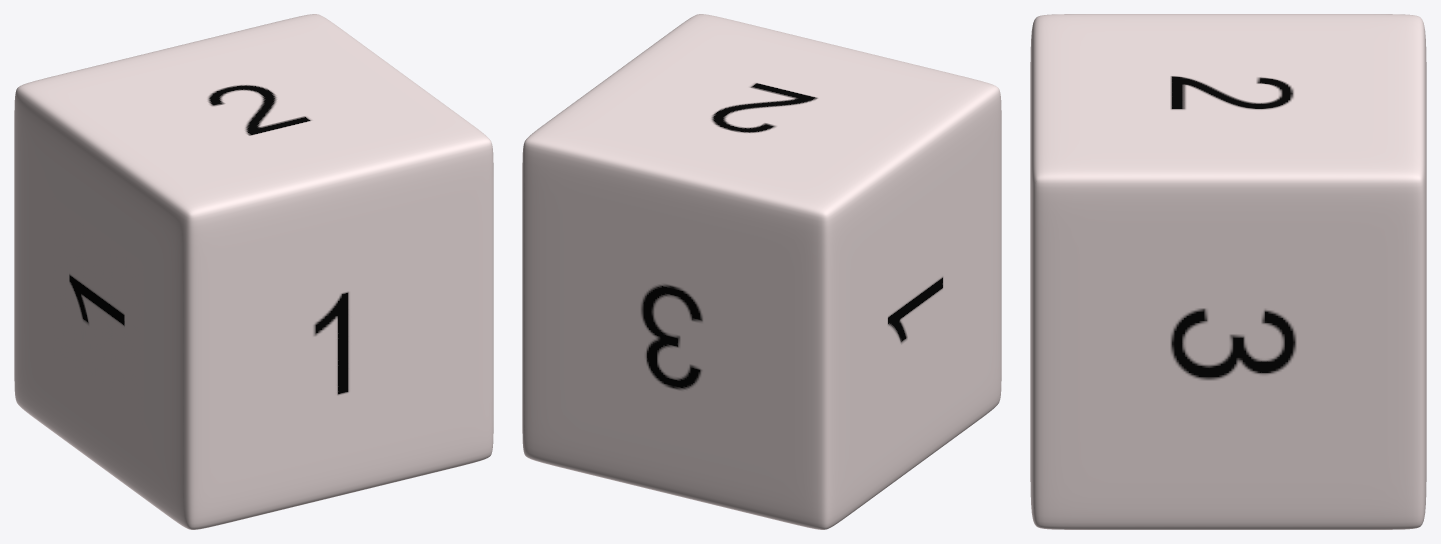
3 renders of one model, left to right at view 1: azimuth 30°, elevation 25°; view 2: azimuth 150°, elevation 25°; view 3: azimuth 270°, elevation 25°, orthographic. The views are drawn at different scales.
Visible parts, largest first — view 1: Cube; view 2: Cube; view 3: Cube.
Part boxes in pixels (<box>): Cube: <box>14,14,493,529</box>; Cube: <box>522,14,1001,529</box>; Cube: <box>1030,14,1426,529</box>.
Size of the model in its own units: 200 by 200 by 200.
